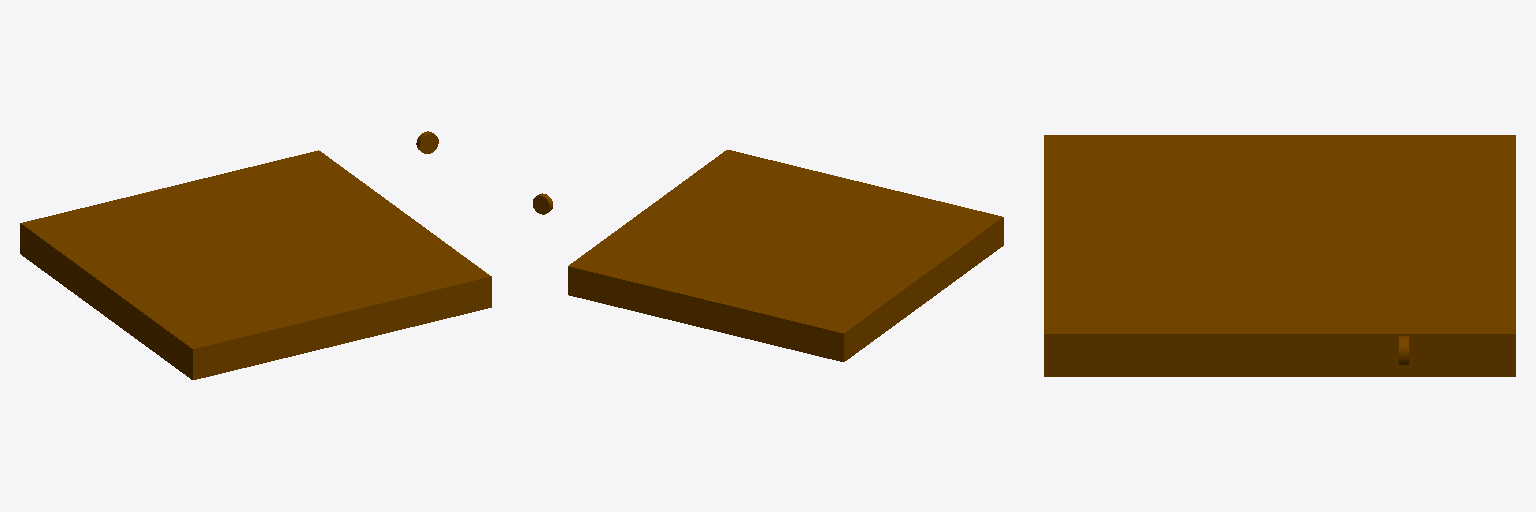
--- Render facts (derived) ---
3 views of the same robot in one strip: view 1: azimuth 30°, elevation 25°; view 2: azimuth 150°, elevation 25°; view 3: azimuth 270°, elevation 25° (orthographic).
Robot: ur_dlidar_robot_gazebo — 23 links, 22 joints (6 revolute, 16 fixed); root link world; default pose: all joints at 0.
Visible links, largest first — view 1: plane; view 2: plane; view 3: plane.
Link boxes in pixels (<box>): plane: <box>20,150,491,379</box>; plane: <box>568,150,1003,361</box>; plane: <box>1044,135,1515,376</box>.
Size in the robot's own frame: 1.26 by 1 by 0.1988 metres.
0 mesh visuals loaded from 7 distinct referenced files (none loaded); not drawn: 7 (reference not matched to a file when rendering).

robot.urdf — ur_dlidar_robot_gazebo:
<?xml version="1.0" ?>
<!-- =================================================================================== -->
<!-- |    This document was autogenerated by xacro from [local-path]/Codes/ROS/dlidar_ws/src/ur_dlidar/ur_dlidar_gazebo/urdf/ur_dlidar.xacro | -->
<!-- |    EDITING THIS FILE BY HAND IS NOT RECOMMENDED                                 | -->
<!-- =================================================================================== -->
<robot name="ur_dlidar_robot_gazebo">
  <!--
    This is a top-level xacro instantiating the Gazebo-specific version of the
    'ur_robot' macro (ie: 'ur_robot_gazebo') and passing it values for all its
    required arguments.

    This file should be considered the Gazebo-specific variant of the file
    with the same name in the ur_description package. It accepts the same
    arguments, but instead of configuring everything for a real robot, will
    generate a Gazebo-compatible URDF with a ros_control hardware_interface
    attached to it.

    Only use this top-level xacro if you plan on spawning the robot in Gazebo
    'by itself', without any gripper or any other geometry attached.

    If you need to attach an end-effector, camera or need to integrate the
    robot into a larger workcell and want to spawn that as a single entity in
    Gazebo, DO NOT EDIT THIS FILE.

    Instead: create a new top-level xacro, give it a proper name, include the
    required '.xacro' files, instantiate the models (ie: call the macros) and
    connect everything by adding the appropriate joints.
  -->
  <!--
    This is a top-level xacro instantiating the Gazebo-specific version of the
    'ur_robot' macro (ie: 'ur_robot_gazebo') and passing it values for all its
    required arguments.

    This file should be considered the Gazebo-specific variant of the file
    with the same name in the ur_description package. It accepts the same
    arguments, but instead of configuring everything for a real robot, will
    generate a Gazebo-compatible URDF with a ros_control hardware_interface
    attached to it.

    Only use this top-level xacro if you plan on spawning the robot in Gazebo
    'by itself', without any gripper or any other geometry attached.

    If you need to attach an end-effector, camera or need to integrate the
    robot into a larger workcell and want to spawn that as a single entity in
    Gazebo, DO NOT EDIT THIS FILE.

    Instead: create a new top-level xacro, give it a proper name, include the
    required '.xacro' files, instantiate the models (ie: call the macros) and
    connect everything by adding the appropriate joints.
  -->
  <!--
    Main xacro macro definition of the "Gazebo robot" model.

    This wraps the model of the real robot and adds all elements and parameters
    required by Gazebo.

    It also adds the gazebo_ros_control plugin.

    NOTE: this is NOT a URDF. It cannot directly be loaded by consumers
    expecting a flattened '.urdf' file. See the top-level '.xacro' for that
    (but note: that .xacro must still be processed by the xacro command).

    For use in '.launch' files: use one of the 'load_urX.launch' convenience
    launch files.

    NOTE: this Gazebo model makes use of the same set of parameter files as the
    main xacro macro (in ur_description). It is therefor possible to use the
    kinematic calibration exported from a REAL UR robot. Please refer to the
    ur_macro.xacro in ur_description for more information about this.

    Main author of the migration to yaml configs: Ludovic Delval.

    Contributors to previous versions (in no particular order):

     - Felix Messmer
     - Kelsey Hawkins
     - Shaun Edwards
     - Alexander Bubeck
     - Nadia Hammoudeh Garcia
     - G. vd. Hoorn
     - Dave Niewinski
     - Andy Zelenak
     - Miguel Prada
     - Mathias Luedtke
     - Hans-Joachim Krauch
     - Felix Exner
  -->
  <!--
    Base UR robot series xacro macro.

    NOTE: this is NOT a URDF. It cannot directly be loaded by consumers
    expecting a flattened '.urdf' file. See the top-level '.xacro' for that
    (but note: that .xacro must still be processed by the xacro command).

    For use in '.launch' files: use one of the 'load_urX.launch' convenience
    launch files.

    This file models the base kinematic chain of a UR robot, which then gets
    parameterised by various configuration files to convert it into a UR3(e),
    UR5(e), UR10(e) or UR16e.

    NOTE: the default kinematic parameters (ie: link lengths, frame locations,
    offets, etc) do not correspond to any particular robot. They are defaults
    only. There WILL be non-zero offsets between the Forward Kinematics results
    in TF (ie: robot_state_publisher) and the values reported by the Teach
    Pendant.

    For accurate (and robot-specific) transforms, the 'kinematics_parameters_file'
    parameter MUST point to a .yaml file containing the appropriate values for
    the targetted robot.

    If using the UniversalRobots/Universal_Robots_ROS_Driver, follow the steps
    described in the readme of that repository to extract the kinematic
    calibration from the controller and generate the required .yaml file.

    Main author of the migration to yaml configs: Ludovic Delval.

    Contributors to previous versions (in no particular order):

     - Felix Messmer
     - Kelsey Hawkins
     - Wim Meeussen
     - Shaun Edwards
     - Nadia Hammoudeh Garcia
     - Dave Hershberger
     - G. vd. Hoorn
     - Philip Long
     - Dave Coleman
     - Miguel Prada
     - Mathias Luedtke
     - Marcel Schnirring
     - Felix von Drigalski
     - Felix Exner
     - Jimmy Da Silva
     - Ajit Krisshna N L
     - Muhammad Asif Rana
  -->
  <!--
    NOTE: the macro defined in this file is NOT part of the public API of this
          package. Users CANNOT rely on this file being available, or stored in
          this location. Nor can they rely on the existence of the macro.
  -->
  <transmission name="shoulder_pan_trans">
    <type>transmission_interface/SimpleTransmission</type>
    <joint name="shoulder_pan_joint">
      <hardwareInterface>hardware_interface/PositionJointInterface</hardwareInterface>
    </joint>
    <actuator name="shoulder_pan_motor">
      <mechanicalReduction>1</mechanicalReduction>
    </actuator>
  </transmission>
  <transmission name="shoulder_lift_trans">
    <type>transmission_interface/SimpleTransmission</type>
    <joint name="shoulder_lift_joint">
      <hardwareInterface>hardware_interface/PositionJointInterface</hardwareInterface>
    </joint>
    <actuator name="shoulder_lift_motor">
      <mechanicalReduction>1</mechanicalReduction>
    </actuator>
  </transmission>
  <transmission name="elbow_trans">
    <type>transmission_interface/SimpleTransmission</type>
    <joint name="elbow_joint">
      <hardwareInterface>hardware_interface/PositionJointInterface</hardwareInterface>
    </joint>
    <actuator name="elbow_motor">
      <mechanicalReduction>1</mechanicalReduction>
    </actuator>
  </transmission>
  <transmission name="wrist_1_trans">
    <type>transmission_interface/SimpleTransmission</type>
    <joint name="wrist_1_joint">
      <hardwareInterface>hardware_interface/PositionJointInterface</hardwareInterface>
    </joint>
    <actuator name="wrist_1_motor">
      <mechanicalReduction>1</mechanicalReduction>
    </actuator>
  </transmission>
  <transmission name="wrist_2_trans">
    <type>transmission_interface/SimpleTransmission</type>
    <joint name="wrist_2_joint">
      <hardwareInterface>hardware_interface/PositionJointInterface</hardwareInterface>
    </joint>
    <actuator name="wrist_2_motor">
      <mechanicalReduction>1</mechanicalReduction>
    </actuator>
  </transmission>
  <transmission name="wrist_3_trans">
    <type>transmission_interface/SimpleTransmission</type>
    <joint name="wrist_3_joint">
      <hardwareInterface>hardware_interface/PositionJointInterface</hardwareInterface>
    </joint>
    <actuator name="wrist_3_motor">
      <mechanicalReduction>1</mechanicalReduction>
    </actuator>
  </transmission>
  <!-- links: main serial chain -->
  <link name="base_link"/>
  <link name="base_link_inertia">
    <visual>
      <origin rpy="0 0 3.141592653589793" xyz="0 0 0"/>
      <geometry>
        <mesh filename="package://ur_description/meshes/ur3e/visual/base.dae"/>
      </geometry>
      <material name="LightGrey">
        <color rgba="0.7 0.7 0.7 1.0"/>
      </material>
    </visual>
    <collision>
      <origin rpy="0 0 3.141592653589793" xyz="0 0 0"/>
      <geometry>
        <mesh filename="package://ur_description/meshes/ur3e/collision/base.stl"/>
      </geometry>
    </collision>
    <inertial>
      <mass value="2.0"/>
      <origin rpy="0 0 0" xyz="0 0 0"/>
      <inertia ixx="0.0030531654454" ixy="0.0" ixz="0.0" iyy="0.0030531654454" iyz="0.0" izz="0.005625"/>
    </inertial>
  </link>
  <link name="shoulder_link">
    <visual>
      <origin rpy="0 0 3.141592653589793" xyz="0 0 0"/>
      <geometry>
        <mesh filename="package://ur_description/meshes/ur3e/visual/shoulder.dae"/>
      </geometry>
      <material name="LightGrey">
        <color rgba="0.7 0.7 0.7 1.0"/>
      </material>
    </visual>
    <collision>
      <origin rpy="0 0 3.141592653589793" xyz="0 0 0"/>
      <geometry>
        <mesh filename="package://ur_description/meshes/ur3e/collision/shoulder.stl"/>
      </geometry>
    </collision>
    <inertial>
      <mass value="2.0"/>
      <origin rpy="0 0 0" xyz="0 0 0"/>
      <inertia ixx="0.008093163429399999" ixy="0.0" ixz="0.0" iyy="0.008093163429399999" iyz="0.0" izz="0.005625"/>
    </inertial>
  </link>
  <link name="upper_arm_link">
    <visual>
      <origin rpy="1.5707963267948966 0 -1.5707963267948966" xyz="0 0 0.12"/>
      <geometry>
        <mesh filename="package://ur_description/meshes/ur3e/visual/upperarm.dae"/>
      </geometry>
      <material name="LightGrey">
        <color rgba="0.7 0.7 0.7 1.0"/>
      </material>
    </visual>
    <collision>
      <origin rpy="1.5707963267948966 0 -1.5707963267948966" xyz="0 0 0.12"/>
      <geometry>
        <mesh filename="package://ur_description/meshes/ur3e/collision/upperarm.stl"/>
      </geometry>
    </collision>
    <inertial>
      <mass value="3.42"/>
      <origin rpy="0 1.5707963267948966 0" xyz="-0.121825 0.0 0.12"/>
      <inertia ixx="0.021728483221103233" ixy="0.0" ixz="0.0" iyy="0.021728483221103233" iyz="0.0" izz="0.00961875"/>
    </inertial>
  </link>
  <link name="forearm_link">
    <visual>
      <origin rpy="1.5707963267948966 0 -1.5707963267948966" xyz="0 0 0.027"/>
      <geometry>
        <mesh filename="package://ur_description/meshes/ur3e/visual/forearm.dae"/>
      </geometry>
      <material name="LightGrey">
        <color rgba="0.7 0.7 0.7 1.0"/>
      </material>
    </visual>
    <collision>
      <origin rpy="1.5707963267948966 0 -1.5707963267948966" xyz="0 0 0.027"/>
      <geometry>
        <mesh filename="package://ur_description/meshes/ur3e/collision/forearm.stl"/>
      </geometry>
    </collision>
    <inertial>
      <mass value="1.26"/>
      <origin rpy="0 1.5707963267948966 0" xyz="-0.1066 0.0 0.027"/>
      <inertia ixx="0.0065445675821719194" ixy="0.0" ixz="0.0" iyy="0.0065445675821719194" iyz="0.0" izz="0.00354375"/>
    </inertial>
  </link>
  <link name="wrist_1_link">
    <visual>
      <!-- TODO: Move this to a parameter -->
      <origin rpy="1.5707963267948966 0 0" xyz="0 0 -0.104"/>
      <geometry>
        <mesh filename="package://ur_description/meshes/ur3e/visual/wrist1.dae"/>
      </geometry>
      <material name="LightGrey">
        <color rgba="0.7 0.7 0.7 1.0"/>
      </material>
    </visual>
    <collision>
      <origin rpy="1.5707963267948966 0 0" xyz="0 0 -0.104"/>
      <geometry>
        <mesh filename="package://ur_description/meshes/ur3e/collision/wrist1.stl"/>
      </geometry>
    </collision>
    <inertial>
      <mass value="0.8"/>
      <origin rpy="0 0 0" xyz="0 0 0"/>
      <inertia ixx="0.002084999166" ixy="0.0" ixz="0.0" iyy="0.002084999166" iyz="0.0" izz="0.00225"/>
    </inertial>
  </link>
  <link name="wrist_2_link">
    <visual>
      <origin rpy="0 0 0" xyz="0 0 -0.08535"/>
      <geometry>
        <mesh filename="package://ur_description/meshes/ur3e/visual/wrist2.dae"/>
      </geometry>
      <material name="LightGrey">
        <color rgba="0.7 0.7 0.7 1.0"/>
      </material>
    </visual>
    <collision>
      <origin rpy="0 0 0" xyz="0 0 -0.08535"/>
      <geometry>
        <mesh filename="package://ur_description/meshes/ur3e/collision/wrist2.stl"/>
      </geometry>
    </collision>
    <inertial>
      <mass value="0.8"/>
      <origin rpy="0 0 0" xyz="0 0 0"/>
      <inertia ixx="0.002084999166" ixy="0.0" ixz="0.0" iyy="0.002084999166" iyz="0.0" izz="0.00225"/>
    </inertial>
  </link>
  <link name="wrist_3_link">
    <visual>
      <origin rpy="1.5707963267948966 0 0" xyz="0 0 -0.0921"/>
      <geometry>
        <mesh filename="package://ur_description/meshes/ur3e/visual/wrist3.dae"/>
      </geometry>
      <material name="LightGrey">
        <color rgba="0.7 0.7 0.7 1.0"/>
      </material>
    </visual>
    <collision>
      <origin rpy="1.5707963267948966 0 0" xyz="0 0 -0.0921"/>
      <geometry>
        <mesh filename="package://ur_description/meshes/ur3e/collision/wrist3.stl"/>
      </geometry>
    </collision>
    <inertial>
      <mass value="0.35"/>
      <origin rpy="0 0 0" xyz="0.0 0.0 -0.02"/>
      <inertia ixx="0.00013626661215999998" ixy="0.0" ixz="0.0" iyy="0.00013626661215999998" iyz="0.0" izz="0.0001792"/>
    </inertial>
  </link>
  <!-- joints: main serial chain -->
  <joint name="base_link-base_link_inertia" type="fixed">
    <parent link="base_link"/>
    <child link="base_link_inertia"/>
    <!-- 'base_link' is REP-103 aligned (so X+ forward), while the internal
           frames of the robot/controller have X+ pointing backwards.
           Use the joint between 'base_link' and 'base_link_inertia' (a dummy
           link/frame) to introduce the necessary rotation over Z (of pi rad).
      -->
    <origin rpy="0 0 3.141592653589793" xyz="0 0 0"/>
  </joint>
  <joint name="shoulder_pan_joint" type="revolute">
    <parent link="base_link_inertia"/>
    <child link="shoulder_link"/>
    <origin rpy="0 0 0" xyz="0 0 0.15185"/>
    <axis xyz="0 0 1"/>
    <limit effort="56.0" lower="-6.283185307179586" upper="6.283185307179586" velocity="3.141592653589793"/>
    <dynamics damping="0" friction="0"/>
  </joint>
  <joint name="shoulder_lift_joint" type="revolute">
    <parent link="shoulder_link"/>
    <child link="upper_arm_link"/>
    <origin rpy="1.570796327 0 0" xyz="0 0 0"/>
    <axis xyz="0 0 1"/>
    <limit effort="56.0" lower="-6.283185307179586" upper="6.283185307179586" velocity="3.141592653589793"/>
    <dynamics damping="0" friction="0"/>
  </joint>
  <joint name="elbow_joint" type="revolute">
    <parent link="upper_arm_link"/>
    <child link="forearm_link"/>
    <origin rpy="0 0 0" xyz="-0.24355 0 0"/>
    <axis xyz="0 0 1"/>
    <limit effort="28.0" lower="-3.141592653589793" upper="3.141592653589793" velocity="3.141592653589793"/>
    <dynamics damping="0" friction="0"/>
  </joint>
  <joint name="wrist_1_joint" type="revolute">
    <parent link="forearm_link"/>
    <child link="wrist_1_link"/>
    <origin rpy="0 0 0" xyz="-0.2132 0 0.13105"/>
    <axis xyz="0 0 1"/>
    <limit effort="12.0" lower="-6.283185307179586" upper="6.283185307179586" velocity="6.283185307179586"/>
    <dynamics damping="0" friction="0"/>
  </joint>
  <joint name="wrist_2_joint" type="revolute">
    <parent link="wrist_1_link"/>
    <child link="wrist_2_link"/>
    <origin rpy="1.570796327 0 0" xyz="0 -0.08535 -1.750557762378351e-11"/>
    <axis xyz="0 0 1"/>
    <limit effort="12.0" lower="-6.283185307179586" upper="6.283185307179586" velocity="6.283185307179586"/>
    <dynamics damping="0" friction="0"/>
  </joint>
  <joint name="wrist_3_joint" type="revolute">
    <parent link="wrist_2_link"/>
    <child link="wrist_3_link"/>
    <origin rpy="1.570796326589793 3.141592653589793 3.141592653589793" xyz="0 0.0921 -1.8890025766262e-11"/>
    <axis xyz="0 0 1"/>
    <limit effort="12.0" lower="-6.283185307179586" upper="6.283185307179586" velocity="6.283185307179586"/>
    <dynamics damping="0" friction="0"/>
  </joint>
  <!-- ROS-Industrial 'base' frame: base_link to UR 'Base' Coordinates transform -->
  <link name="base"/>
  <joint name="base_link-base_fixed_joint" type="fixed">
    <!-- Note the rotation over Z of pi radians: as base_link is REP-103
           aligned (ie: has X+ forward, Y+ left and Z+ up), this is needed
           to correctly align 'base' with the 'Base' coordinate system of
           the UR controller.
      -->
    <origin rpy="0 0 3.141592653589793" xyz="0 0 0"/>
    <parent link="base_link"/>
    <child link="base"/>
  </joint>
  <!-- ROS-Industrial 'flange' frame: attachment point for EEF models -->
  <link name="flange"/>
  <joint name="wrist_3-flange" type="fixed">
    <parent link="wrist_3_link"/>
    <child link="flange"/>
    <origin rpy="0 -1.5707963267948966 -1.5707963267948966" xyz="0 0 0"/>
  </joint>
  <!-- ROS-Industrial 'tool0' frame: all-zeros tool frame -->
  <link name="tool0"/>
  <joint name="flange-tool0" type="fixed">
    <!-- default toolframe: X+ left, Y+ up, Z+ front -->
    <origin rpy="1.5707963267948966 0 1.5707963267948966" xyz="0 0 0"/>
    <parent link="flange"/>
    <child link="tool0"/>
  </joint>
  <!-- Configure self collision properties per link -->
  <gazebo reference="shoulder_link">
    <selfCollide>true</selfCollide>
  </gazebo>
  <gazebo reference="upper_arm_link">
    <selfCollide>true</selfCollide>
  </gazebo>
  <gazebo reference="forearm_link">
    <selfCollide>true</selfCollide>
  </gazebo>
  <gazebo reference="wrist_1_link">
    <selfCollide>true</selfCollide>
  </gazebo>
  <gazebo reference="wrist_3_link">
    <selfCollide>true</selfCollide>
  </gazebo>
  <gazebo reference="wrist_2_link">
    <selfCollide>true</selfCollide>
  </gazebo>
  <gazebo reference="ee_link">
    <selfCollide>true</selfCollide>
  </gazebo>
  <!--
      Inject Gazebo ROS Control plugin, which allows us to use ros_control
      controllers to control the virtual robot hw.
    -->
  <gazebo>
    <plugin filename="libgazebo_ros_control.so" name="ros_control">
      <!--robotNamespace>/</robotNamespace-->
      <!--robotSimType>gazebo_ros_control/DefaultRobotHWSim</robotSimType-->
    </plugin>
  </gazebo>
  <link name="plane">
    <!-- Visual -->
    <visual>
      <geometry>
        <box size="1 1 0.1"/>
      </geometry>
      <origin rpy="0 0 0.0" xyz="0 0.0 0"/>
      <material name="yellow">
        <color rgba="0.5 0.3 0.0 1"/>
      </material>
    </visual>
    <!-- Collision -->
    <collision>
      <geometry>
        <box size="1 1 0.1"/>
      </geometry>
      <origin rpy="0 0 0.0" xyz="0 0.0 0"/>
    </collision>
    <!-- Interial -->
    <inertial>
      <origin xyz="0 0 0"/>
      <mass value="6"/>
      <inertia ixx="1" ixy="0" ixz="0" iyy="1" iyz="0" izz="1"/>
    </inertial>
  </link>
  <!-- Sensor Joint -->
  <joint name="plan_joints" type="fixed">
    <parent link="world"/>
    <child link="plane"/>
    <origin rpy="0 0 0" xyz="0 0 0"/>
  </joint>
  <!--
    Attach the Gazebo model to Gazebo's world frame.

    Note: if you're looking to integrate a UR into a larger scene and need
    to add EEFs or other parts, DO NOT change this file or the 'world' link
    here. Create a NEW xacro instead and decide whether you need to add
    a 'world' link there.
  -->
  <link name="world"/>
  <joint name="world_joint" type="fixed">
    <parent link="plane"/>
    <child link="base_link"/>
    <origin rpy="0 0 0" xyz="0.27 0.05 0.05"/>
  </joint>
  <!-- World link -->
  <link name="dlidar_base"/>
  <joint name="base_joint" type="fixed">
    <parent link="dlidar_base"/>
    <child link="dlidar_base_inertia"/>
  </joint>
  <!-- Base link with inertia-->
  <link name="dlidar_base_inertia">
    <!-- Visual -->
    <visual>
      <geometry>
        <cylinder length="0.02" radius="0.031783"/>
      </geometry>
      <origin rpy="0.0 0.0 0.0" xyz="0.0 0.0 0.0"/>
      <material name="black">
        <color rgba="0.5 0.3 0.0 1"/>
      </material>
    </visual>
    <!-- Collision -->
    <collision>
      <geometry>
        <cylinder length="0.02" radius="0.031783"/>
      </geometry>
    </collision>
    <!-- Interial -->
    <inertial>
      <origin xyz="0 0 0"/>
      <mass value="0.001"/>
      <inertia ixx="1" ixy="0" ixz="0" iyy="1" iyz="0" izz="1"/>
    </inertial>
  </link>
  <!-- Sensor link -->
  <link name="dlidar0">
    <!-- Visual -->
    <visual>
      <geometry>
        <box size="0.001 0.002 0.004"/>
      </geometry>
      <origin rpy="0 0 0" xyz="0 0 0"/>
      <material name="yellow">
        <color rgba="0.5 0.3 0.0 1"/>
      </material>
    </visual>
    <!-- Collision -->
    <collision>
      <geometry>
        <box size="0.001 0.002 0.004"/>
      </geometry>
      <origin rpy="0 0 0" xyz="0 0 0"/>
    </collision>
    <!-- Interial -->
    <inertial>
      <origin xyz="0 0 0"/>
      <mass value="0.001"/>
      <inertia ixx="1" ixy="0" ixz="0" iyy="1" iyz="0" izz="1"/>
    </inertial>
  </link>
  <!-- Sensor Joint -->
  <joint name="dlidar0_joints" type="fixed">
    <parent link="dlidar_base_inertia"/>
    <child link="dlidar0"/>
    <origin rpy="0 0 0.0" xyz="0.031783 0.0 0"/>
  </joint>
  <!-- Make sure not be merged -->
  <gazebo reference="dlidar0_joints">
    <preserveFixedJoint>true</preserveFixedJoint>
  </gazebo>
  <!-- Sensor plugin -->
  <gazebo reference="dlidar0">
    <sensor name="dlidar0_ray" type="ray">
      <pose>0 0 0 0 0 0</pose>
      <visualize>true</visualize>
      <!-- 是否可视化射线 -->
      <update_rate>10</update_rate>
      <!-- 测距频率 -->
      <ray>
        <scan>
          <horizontal>
            <!-- 水平方向 -->
            <samples>10</samples>
            <resolution>1</resolution>
            <min_angle>-0.2625</min_angle>
            <!-- 角度范围最小值 -15度 -->
            <max_angle>0.2625</max_angle>
            <!-- 角度范围最大值 15度 -->
          </horizontal>
          <vertical>
            <!-- 垂直方向 参数同上-->
            <samples>10</samples>
            <resolution>1</resolution>
            <min_angle>-0.2625</min_angle>
            <max_angle>0.2625</max_angle>
          </vertical>
        </scan>
        <range>
          <min>0.02</min>
          <!-- 最小测距范围-->
          <max>1.0</max>
          <!-- 最大测距范围-->
          <resolution>0.02</resolution>
        </range>
      </ray>
      <plugin filename="libgazebo_ros_range.so" name="gazebo_ros_range0">
        <gaussianNoise>0.001</gaussianNoise>
        <!-- 添加传感器噪声 -->
        <alwaysOn>true</alwaysOn>
        <updateRate>10</updateRate>
        <topicName>dlidar_data</topicName>
        <!-- 发布数据的 Topic 名称 -->
        <frameName>dlidar0</frameName>
        <!-- 对应的frame 名字 -->
        <radiation>ultrasound</radiation>
        <fov>0.5236</fov>
      </plugin>
    </sensor>
  </gazebo>
  <!-- Sensor link -->
  <link name="dlidar1">
    <!-- Visual -->
    <visual>
      <geometry>
        <box size="0.001 0.002 0.004"/>
      </geometry>
      <origin rpy="0 0 0" xyz="0 0 0"/>
      <material name="yellow">
        <color rgba="0.5 0.3 0.0 1"/>
      </material>
    </visual>
    <!-- Collision -->
    <collision>
      <geometry>
        <box size="0.001 0.002 0.004"/>
      </geometry>
      <origin rpy="0 0 0" xyz="0 0 0"/>
    </collision>
    <!-- Interial -->
    <inertial>
      <origin xyz="0 0 0"/>
      <mass value="0.001"/>
      <inertia ixx="1" ixy="0" ixz="0" iyy="1" iyz="0" izz="1"/>
    </inertial>
  </link>
  <!-- Sensor Joint -->
  <joint name="dlidar1_joints" type="fixed">
    <parent link="dlidar_base_inertia"/>
    <child link="dlidar1"/>
    <origin rpy="0 0 0.6300000000000001" xyz="0.025681538296685118 0.018724787841679153 0"/>
  </joint>
  <!-- Make sure not be merged -->
  <gazebo reference="dlidar1_joints">
    <preserveFixedJoint>true</preserveFixedJoint>
  </gazebo>
  <!-- Sensor plugin -->
  <gazebo reference="dlidar1">
    <sensor name="dlidar1_ray" type="ray">
      <pose>0 0 0 0 0 0</pose>
      <visualize>true</visualize>
      <!-- 是否可视化射线 -->
      <update_rate>10</update_rate>
      <!-- 测距频率 -->
      <ray>
        <scan>
          <horizontal>
            <!-- 水平方向 -->
            <samples>10</samples>
            <resolution>1</resolution>
            <min_angle>-0.2625</min_angle>
            <!-- 角度范围最小值 -15度 -->
            <max_angle>0.2625</max_angle>
            <!-- 角度范围最大值 15度 -->
          </horizontal>
          <vertical>
            <!-- 垂直方向 参数同上-->
            <samples>10</samples>
            <resolution>1</resolution>
            <min_angle>-0.2625</min_angle>
            <max_angle>0.2625</max_angle>
          </vertical>
        </scan>
        <range>
          <min>0.02</min>
          <!-- 最小测距范围-->
          <max>1.0</max>
          <!-- 最大测距范围-->
          <resolution>0.02</resolution>
        </range>
      </ray>
      <plugin filename="libgazebo_ros_range.so" name="gazebo_ros_range1">
        <gaussianNoise>0.001</gaussianNoise>
        <!-- 添加传感器噪声 -->
        <alwaysOn>true</alwaysOn>
        <updateRate>10</updateRate>
        <topicName>dlidar_data</topicName>
        <!-- 发布数据的 Topic 名称 -->
        <frameName>dlidar1</frameName>
        <!-- 对应的frame 名字 -->
        <radiation>ultrasound</radiation>
        <fov>0.5236</fov>
      </plugin>
    </sensor>
  </gazebo>
  <!-- Sensor link -->
  <link name="dlidar2">
    <!-- Visual -->
    <visual>
      <geometry>
        <box size="0.001 0.002 0.004"/>
      </geometry>
      <origin rpy="0 0 0" xyz="0 0 0"/>
      <material name="yellow">
        <color rgba="0.5 0.3 0.0 1"/>
      </material>
    </visual>
    <!-- Collision -->
    <collision>
      <geometry>
        <box size="0.001 0.002 0.004"/>
      </geometry>
      <origin rpy="0 0 0" xyz="0 0 0"/>
    </collision>
    <!-- Interial -->
    <inertial>
      <origin xyz="0 0 0"/>
      <mass value="0.001"/>
      <inertia ixx="1" ixy="0" ixz="0" iyy="1" iyz="0" izz="1"/>
    </inertial>
  </link>
  <!-- Sensor Joint -->
  <joint name="dlidar2_joints" type="fixed">
    <parent link="dlidar_base_inertia"/>
    <child link="dlidar2"/>
    <origin rpy="0 0 1.2600000000000002" xyz="0.009719778798987163 0.030260287326771364 0"/>
  </joint>
  <!-- Make sure not be merged -->
  <gazebo reference="dlidar2_joints">
    <preserveFixedJoint>true</preserveFixedJoint>
  </gazebo>
  <!-- Sensor plugin -->
  <gazebo reference="dlidar2">
    <sensor name="dlidar2_ray" type="ray">
      <pose>0 0 0 0 0 0</pose>
      <visualize>true</visualize>
      <!-- 是否可视化射线 -->
      <update_rate>10</update_rate>
      <!-- 测距频率 -->
      <ray>
        <scan>
          <horizontal>
            <!-- 水平方向 -->
            <samples>10</samples>
            <resolution>1</resolution>
            <min_angle>-0.2625</min_angle>
            <!-- 角度范围最小值 -15度 -->
            <max_angle>0.2625</max_angle>
            <!-- 角度范围最大值 15度 -->
          </horizontal>
          <vertical>
            <!-- 垂直方向 参数同上-->
            <samples>10</samples>
            <resolution>1</resolution>
            <min_angle>-0.2625</min_angle>
            <max_angle>0.2625</max_angle>
          </vertical>
        </scan>
        <range>
          <min>0.02</min>
          <!-- 最小测距范围-->
          <max>1.0</max>
          <!-- 最大测距范围-->
          <resolution>0.02</resolution>
        </range>
      </ray>
      <plugin filename="libgazebo_ros_range.so" name="gazebo_ros_range2">
        <gaussianNoise>0.001</gaussianNoise>
        <!-- 添加传感器噪声 -->
        <alwaysOn>true</alwaysOn>
        <updateRate>10</updateRate>
        <topicName>dlidar_data</topicName>
        <!-- 发布数据的 Topic 名称 -->
        <frameName>dlidar2</frameName>
        <!-- 对应的frame 名字 -->
        <radiation>ultrasound</radiation>
        <fov>0.5236</fov>
      </plugin>
    </sensor>
  </gazebo>
  <!-- Sensor link -->
  <link name="dlidar3">
    <!-- Visual -->
    <visual>
      <geometry>
        <box size="0.001 0.002 0.004"/>
      </geometry>
      <origin rpy="0 0 0" xyz="0 0 0"/>
      <material name="yellow">
        <color rgba="0.5 0.3 0.0 1"/>
      </material>
    </visual>
    <!-- Collision -->
    <collision>
      <geometry>
        <box size="0.001 0.002 0.004"/>
      </geometry>
      <origin rpy="0 0 0" xyz="0 0 0"/>
    </collision>
    <!-- Interial -->
    <inertial>
      <origin xyz="0 0 0"/>
      <mass value="0.001"/>
      <inertia ixx="1" ixy="0" ixz="0" iyy="1" iyz="0" izz="1"/>
    </inertial>
  </link>
  <!-- Sensor Joint -->
  <joint name="dlidar3_joints" type="fixed">
    <parent link="dlidar_base_inertia"/>
    <child link="dlidar3"/>
    <origin rpy="0 0 1.8900000000000003" xyz="-0.009973841008103368 0.030177501297242545 0"/>
  </joint>
  <!-- Make sure not be merged -->
  <gazebo reference="dlidar3_joints">
    <preserveFixedJoint>true</preserveFixedJoint>
  </gazebo>
  <!-- Sensor plugin -->
  <gazebo reference="dlidar3">
    <sensor name="dlidar3_ray" type="ray">
      <pose>0 0 0 0 0 0</pose>
      <visualize>true</visualize>
      <!-- 是否可视化射线 -->
      <update_rate>10</update_rate>
      <!-- 测距频率 -->
      <ray>
        <scan>
          <horizontal>
            <!-- 水平方向 -->
            <samples>10</samples>
            <resolution>1</resolution>
            <min_angle>-0.2625</min_angle>
            <!-- 角度范围最小值 -15度 -->
            <max_angle>0.2625</max_angle>
            <!-- 角度范围最大值 15度 -->
          </horizontal>
          <vertical>
            <!-- 垂直方向 参数同上-->
            <samples>10</samples>
            <resolution>1</resolution>
            <min_angle>-0.2625</min_angle>
            <max_angle>0.2625</max_angle>
          </vertical>
        </scan>
        <range>
          <min>0.02</min>
          <!-- 最小测距范围-->
          <max>1.0</max>
          <!-- 最大测距范围-->
          <resolution>0.02</resolution>
        </range>
      </ray>
      <plugin filename="libgazebo_ros_range.so" name="gazebo_ros_range3">
        <gaussianNoise>0.001</gaussianNoise>
        <!-- 添加传感器噪声 -->
        <alwaysOn>true</alwaysOn>
        <updateRate>10</updateRate>
        <topicName>dlidar_data</topicName>
        <!-- 发布数据的 Topic 名称 -->
        <frameName>dlidar3</frameName>
        <!-- 对应的frame 名字 -->
        <radiation>ultrasound</radiation>
        <fov>0.5236</fov>
      </plugin>
    </sensor>
  </gazebo>
  <!-- Sensor link -->
  <link name="dlidar4">
    <!-- Visual -->
    <visual>
      <geometry>
        <box size="0.001 0.002 0.004"/>
      </geometry>
      <origin rpy="0 0 0" xyz="0 0 0"/>
      <material name="yellow">
        <color rgba="0.5 0.3 0.0 1"/>
      </material>
    </visual>
    <!-- Collision -->
    <collision>
      <geometry>
        <box size="0.001 0.002 0.004"/>
      </geometry>
      <origin rpy="0 0 0" xyz="0 0 0"/>
    </collision>
    <!-- Interial -->
    <inertial>
      <origin xyz="0 0 0"/>
      <mass value="0.001"/>
      <inertia ixx="1" ixy="0" ixz="0" iyy="1" iyz="0" izz="1"/>
    </inertial>
  </link>
  <!-- Sensor Joint -->
  <joint name="dlidar4_joints" type="fixed">
    <parent link="dlidar_base_inertia"/>
    <child link="dlidar4"/>
    <origin rpy="0 0 2.5200000000000005" xyz="-0.02583805459514581 0.018508215033823883 0"/>
  </joint>
  <!-- Make sure not be merged -->
  <gazebo reference="dlidar4_joints">
    <preserveFixedJoint>true</preserveFixedJoint>
  </gazebo>
  <!-- Sensor plugin -->
  <gazebo reference="dlidar4">
    <sensor name="dlidar4_ray" type="ray">
      <pose>0 0 0 0 0 0</pose>
      <visualize>true</visualize>
      <!-- 是否可视化射线 -->
      <update_rate>10</update_rate>
      <!-- 测距频率 -->
      <ray>
        <scan>
          <horizontal>
            <!-- 水平方向 -->
            <samples>10</samples>
            <resolution>1</resolution>
            <min_angle>-0.2625</min_angle>
            <!-- 角度范围最小值 -15度 -->
            <max_angle>0.2625</max_angle>
            <!-- 角度范围最大值 15度 -->
          </horizontal>
          <vertical>
            <!-- 垂直方向 参数同上-->
            <samples>10</samples>
            <resolution>1</resolution>
            <min_angle>-0.2625</min_angle>
            <max_angle>0.2625</max_angle>
          </vertical>
        </scan>
        <range>
          <min>0.02</min>
          <!-- 最小测距范围-->
          <max>1.0</max>
          <!-- 最大测距范围-->
          <resolution>0.02</resolution>
        </range>
      </ray>
      <plugin filename="libgazebo_ros_range.so" name="gazebo_ros_range4">
        <gaussianNoise>0.001</gaussianNoise>
        <!-- 添加传感器噪声 -->
        <alwaysOn>true</alwaysOn>
        <updateRate>10</updateRate>
        <topicName>dlidar_data</topicName>
        <!-- 发布数据的 Topic 名称 -->
        <frameName>dlidar4</frameName>
        <!-- 对应的frame 名字 -->
        <radiation>ultrasound</radiation>
        <fov>0.5236</fov>
      </plugin>
    </sensor>
  </gazebo>
  <!-- Sensor link -->
  <link name="dlidar5">
    <!-- Visual -->
    <visual>
      <geometry>
        <box size="0.001 0.002 0.004"/>
      </geometry>
      <origin rpy="0 0 0" xyz="0 0 0"/>
      <material name="yellow">
        <color rgba="0.5 0.3 0.0 1"/>
      </material>
    </visual>
    <!-- Collision -->
    <collision>
      <geometry>
        <box size="0.001 0.002 0.004"/>
      </geometry>
      <origin rpy="0 0 0" xyz="0 0 0"/>
    </collision>
    <!-- Interial -->
    <inertial>
      <origin xyz="0 0 0"/>
      <mass value="0.001"/>
      <inertia ixx="1" ixy="0" ixz="0" iyy="1" iyz="0" izz="1"/>
    </inertial>
  </link>
  <!-- Sensor Joint -->
  <joint name="dlidar5_joints" type="fixed">
    <parent link="dlidar_base_inertia"/>
    <child link="dlidar5"/>
    <origin rpy="0 0 3.1500000000000004" xyz="-0.03178187674019466 -0.00026720754307009865 0"/>
  </joint>
  <!-- Make sure not be merged -->
  <gazebo reference="dlidar5_joints">
    <preserveFixedJoint>true</preserveFixedJoint>
  </gazebo>
  <!-- Sensor plugin -->
  <gazebo reference="dlidar5">
    <sensor name="dlidar5_ray" type="ray">
      <pose>0 0 0 0 0 0</pose>
      <visualize>true</visualize>
      <!-- 是否可视化射线 -->
      <update_rate>10</update_rate>
      <!-- 测距频率 -->
      <ray>
        <scan>
          <horizontal>
            <!-- 水平方向 -->
            <samples>10</samples>
            <resolution>1</resolution>
            <min_angle>-0.2625</min_angle>
            <!-- 角度范围最小值 -15度 -->
            <max_angle>0.2625</max_angle>
            <!-- 角度范围最大值 15度 -->
          </horizontal>
          <vertical>
            <!-- 垂直方向 参数同上-->
            <samples>10</samples>
            <resolution>1</resolution>
            <min_angle>-0.2625</min_angle>
            <max_angle>0.2625</max_angle>
          </vertical>
        </scan>
        <range>
          <min>0.02</min>
          <!-- 最小测距范围-->
          <max>1.0</max>
          <!-- 最大测距范围-->
          <resolution>0.02</resolution>
        </range>
      </ray>
      <plugin filename="libgazebo_ros_range.so" name="gazebo_ros_range5">
        <gaussianNoise>0.001</gaussianNoise>
        <!-- 添加传感器噪声 -->
        <alwaysOn>true</alwaysOn>
        <updateRate>10</updateRate>
        <topicName>dlidar_data</topicName>
        <!-- 发布数据的 Topic 名称 -->
        <frameName>dlidar5</frameName>
        <!-- 对应的frame 名字 -->
        <radiation>ultrasound</radiation>
        <fov>0.5236</fov>
      </plugin>
    </sensor>
  </gazebo>
  <!-- Sensor link -->
  <link name="dlidar6">
    <!-- Visual -->
    <visual>
      <geometry>
        <box size="0.001 0.002 0.004"/>
      </geometry>
      <origin rpy="0 0 0" xyz="0 0 0"/>
      <material name="yellow">
        <color rgba="0.5 0.3 0.0 1"/>
      </material>
    </visual>
    <!-- Collision -->
    <collision>
      <geometry>
        <box size="0.001 0.002 0.004"/>
      </geometry>
      <origin rpy="0 0 0" xyz="0 0 0"/>
    </collision>
    <!-- Interial -->
    <inertial>
      <origin xyz="0 0 0"/>
      <mass value="0.001"/>
      <inertia ixx="1" ixy="0" ixz="0" iyy="1" iyz="0" izz="1"/>
    </inertial>
  </link>
  <!-- Sensor Joint -->
  <joint name="dlidar6_joints" type="fixed">
    <parent link="dlidar_base_inertia"/>
    <child link="dlidar6"/>
    <origin rpy="0 0 3.7800000000000007" xyz="-0.025523206748581037 -0.01894003712428218 0"/>
  </joint>
  <!-- Make sure not be merged -->
  <gazebo reference="dlidar6_joints">
    <preserveFixedJoint>true</preserveFixedJoint>
  </gazebo>
  <!-- Sensor plugin -->
  <gazebo reference="dlidar6">
    <sensor name="dlidar6_ray" type="ray">
      <pose>0 0 0 0 0 0</pose>
      <visualize>true</visualize>
      <!-- 是否可视化射线 -->
      <update_rate>10</update_rate>
      <!-- 测距频率 -->
      <ray>
        <scan>
          <horizontal>
            <!-- 水平方向 -->
            <samples>10</samples>
            <resolution>1</resolution>
            <min_angle>-0.2625</min_angle>
            <!-- 角度范围最小值 -15度 -->
            <max_angle>0.2625</max_angle>
            <!-- 角度范围最大值 15度 -->
          </horizontal>
          <vertical>
            <!-- 垂直方向 参数同上-->
            <samples>10</samples>
            <resolution>1</resolution>
            <min_angle>-0.2625</min_angle>
            <max_angle>0.2625</max_angle>
          </vertical>
        </scan>
        <range>
          <min>0.02</min>
          <!-- 最小测距范围-->
          <max>1.0</max>
          <!-- 最大测距范围-->
          <resolution>0.02</resolution>
        </range>
      </ray>
      <plugin filename="libgazebo_ros_range.so" name="gazebo_ros_range6">
        <gaussianNoise>0.001</gaussianNoise>
        <!-- 添加传感器噪声 -->
        <alwaysOn>true</alwaysOn>
        <updateRate>10</updateRate>
        <topicName>dlidar_data</topicName>
        <!-- 发布数据的 Topic 名称 -->
        <frameName>dlidar6</frameName>
        <!-- 对应的frame 名字 -->
        <radiation>ultrasound</radiation>
        <fov>0.5236</fov>
      </plugin>
    </sensor>
  </gazebo>
  <!-- Sensor link -->
  <link name="dlidar7">
    <!-- Visual -->
    <visual>
      <geometry>
        <box size="0.001 0.002 0.004"/>
      </geometry>
      <origin rpy="0 0 0" xyz="0 0 0"/>
      <material name="yellow">
        <color rgba="0.5 0.3 0.0 1"/>
      </material>
    </visual>
    <!-- Collision -->
    <collision>
      <geometry>
        <box size="0.001 0.002 0.004"/>
      </geometry>
      <origin rpy="0 0 0" xyz="0 0 0"/>
    </collision>
    <!-- Interial -->
    <inertial>
      <origin xyz="0 0 0"/>
      <mass value="0.001"/>
      <inertia ixx="1" ixy="0" ixz="0" iyy="1" iyz="0" izz="1"/>
    </inertial>
  </link>
  <!-- Sensor Joint -->
  <joint name="dlidar7_joints" type="fixed">
    <parent link="dlidar_base_inertia"/>
    <child link="dlidar7"/>
    <origin rpy="0 0 4.410000000000001" xyz="-0.009465029566189002 -0.030340934466676663 0"/>
  </joint>
  <!-- Make sure not be merged -->
  <gazebo reference="dlidar7_joints">
    <preserveFixedJoint>true</preserveFixedJoint>
  </gazebo>
  <!-- Sensor plugin -->
  <gazebo reference="dlidar7">
    <sensor name="dlidar7_ray" type="ray">
      <pose>0 0 0 0 0 0</pose>
      <visualize>true</visualize>
      <!-- 是否可视化射线 -->
      <update_rate>10</update_rate>
      <!-- 测距频率 -->
      <ray>
        <scan>
          <horizontal>
            <!-- 水平方向 -->
            <samples>10</samples>
            <resolution>1</resolution>
            <min_angle>-0.2625</min_angle>
            <!-- 角度范围最小值 -15度 -->
            <max_angle>0.2625</max_angle>
            <!-- 角度范围最大值 15度 -->
          </horizontal>
          <vertical>
            <!-- 垂直方向 参数同上-->
            <samples>10</samples>
            <resolution>1</resolution>
            <min_angle>-0.2625</min_angle>
            <max_angle>0.2625</max_angle>
          </vertical>
        </scan>
        <range>
          <min>0.02</min>
          <!-- 最小测距范围-->
          <max>1.0</max>
          <!-- 最大测距范围-->
          <resolution>0.02</resolution>
        </range>
      </ray>
      <plugin filename="libgazebo_ros_range.so" name="gazebo_ros_range7">
        <gaussianNoise>0.001</gaussianNoise>
        <!-- 添加传感器噪声 -->
        <alwaysOn>true</alwaysOn>
        <updateRate>10</updateRate>
        <topicName>dlidar_data</topicName>
        <!-- 发布数据的 Topic 名称 -->
        <frameName>dlidar7</frameName>
        <!-- 对应的frame 名字 -->
        <radiation>ultrasound</radiation>
        <fov>0.5236</fov>
      </plugin>
    </sensor>
  </gazebo>
  <joint name="ur3e_dlidar_joint" type="fixed">
    <parent link="tool0"/>
    <child link="dlidar_base"/>
    <origin rpy="3.141592653589793 0 -2.76" xyz="0 0 -0.01"/>
  </joint>
</robot>
